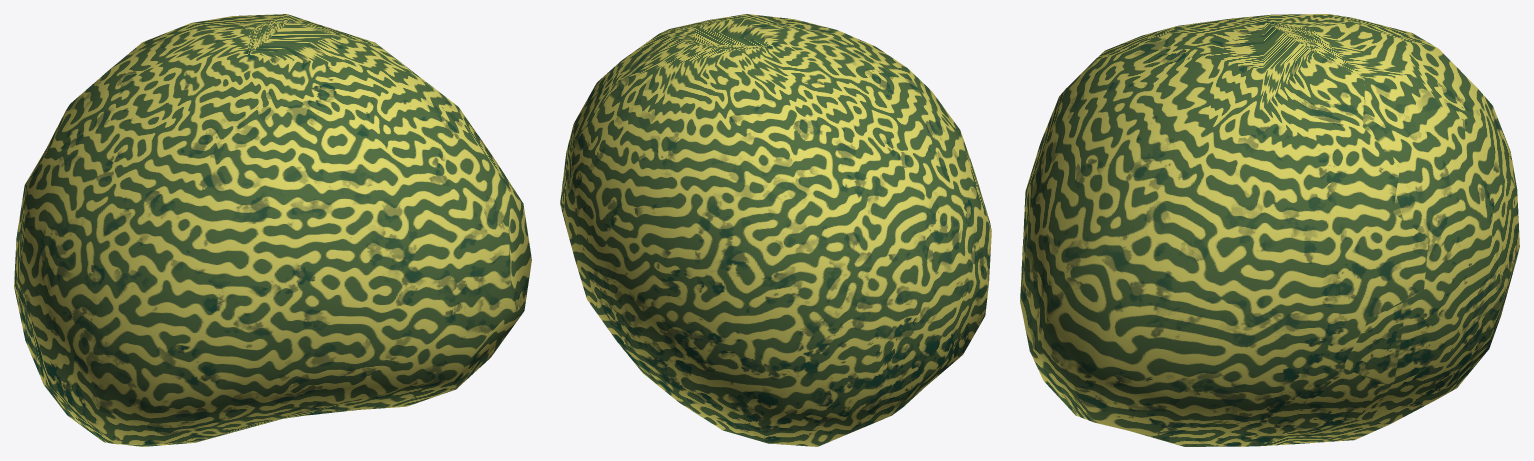
The model's file is BrainCoral02.fbx.
3 renders of one model, left to right at view 1: azimuth 30°, elevation 25°; view 2: azimuth 150°, elevation 25°; view 3: azimuth 270°, elevation 25°, orthographic. The views are drawn at different scales.
Parts seen in each view (by area): view 1: BainCoral02; view 2: BainCoral02; view 3: BainCoral02.
Boxes of the visible parts, box(x1,y1,x2,y2) form: BainCoral02: box(14, 14, 531, 446); BainCoral02: box(560, 14, 991, 446); BainCoral02: box(1020, 14, 1519, 446).
Size of the model in its own units: 1.14 by 0.997 by 1.07.
